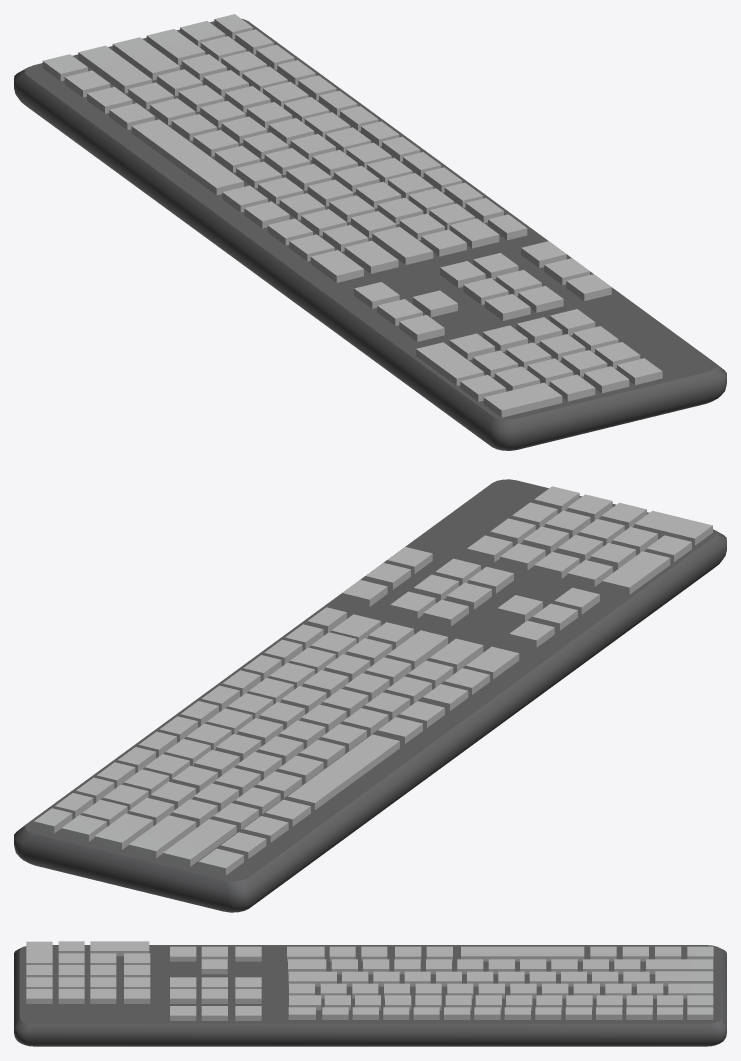
Rendered from Keyboard.fbx.
The picture shows the model from 3 angles, top to bottom: view 1: azimuth 30°, elevation 25°; view 2: azimuth 150°, elevation 25°; view 3: azimuth 270°, elevation 25°; orthographic projection. The views are drawn at different scales.
Parts seen in each view (by area): view 1: Keyboard; view 2: Keyboard; view 3: Keyboard.
Boxes of the visible parts, left/top/right/bottom form: Keyboard: left=14, top=14, right=726, bottom=450; Keyboard: left=14, top=479, right=726, bottom=912; Keyboard: left=14, top=941, right=726, bottom=1046.
Bounding box in the file's own units: 0.1583 × 0.5715 × 0.0272.
